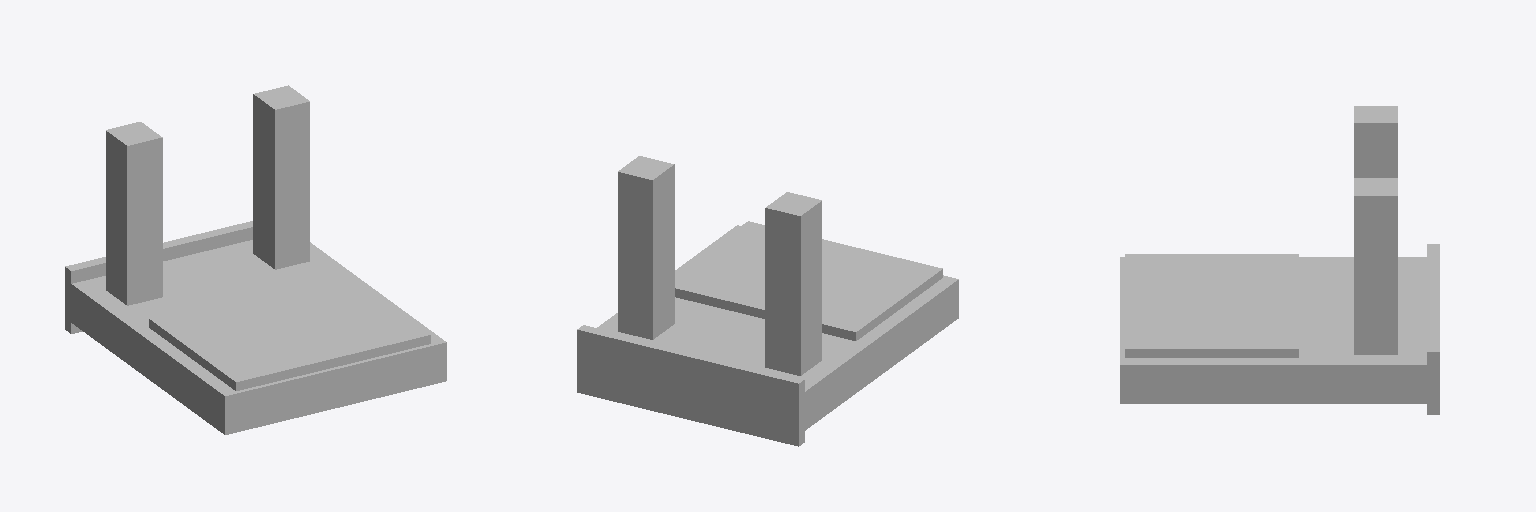
File: catapult_base.obj
3 views of the same model, side by side, from view 1: azimuth 30°, elevation 25°; view 2: azimuth 150°, elevation 25°; view 3: azimuth 270°, elevation 25° (orthographic).
Parts seen in each view (by area): view 1: ForestCatapultBase_Cube.001; view 2: ForestCatapultBase_Cube.001; view 3: ForestCatapultBase_Cube.001.
Boxes of the visible parts, box(x1,y1,x2,y2) form: ForestCatapultBase_Cube.001: box(65, 85, 446, 434); ForestCatapultBase_Cube.001: box(577, 156, 958, 446); ForestCatapultBase_Cube.001: box(1120, 106, 1439, 414).
Size of the model in its own units: 2 by 1.81 by 2.5.